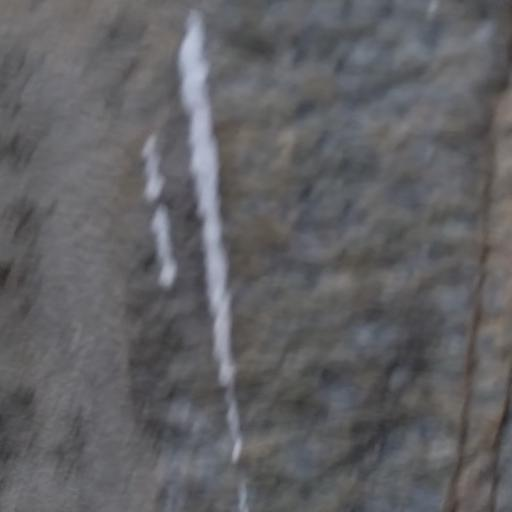stain: (130, 9, 283, 512)
